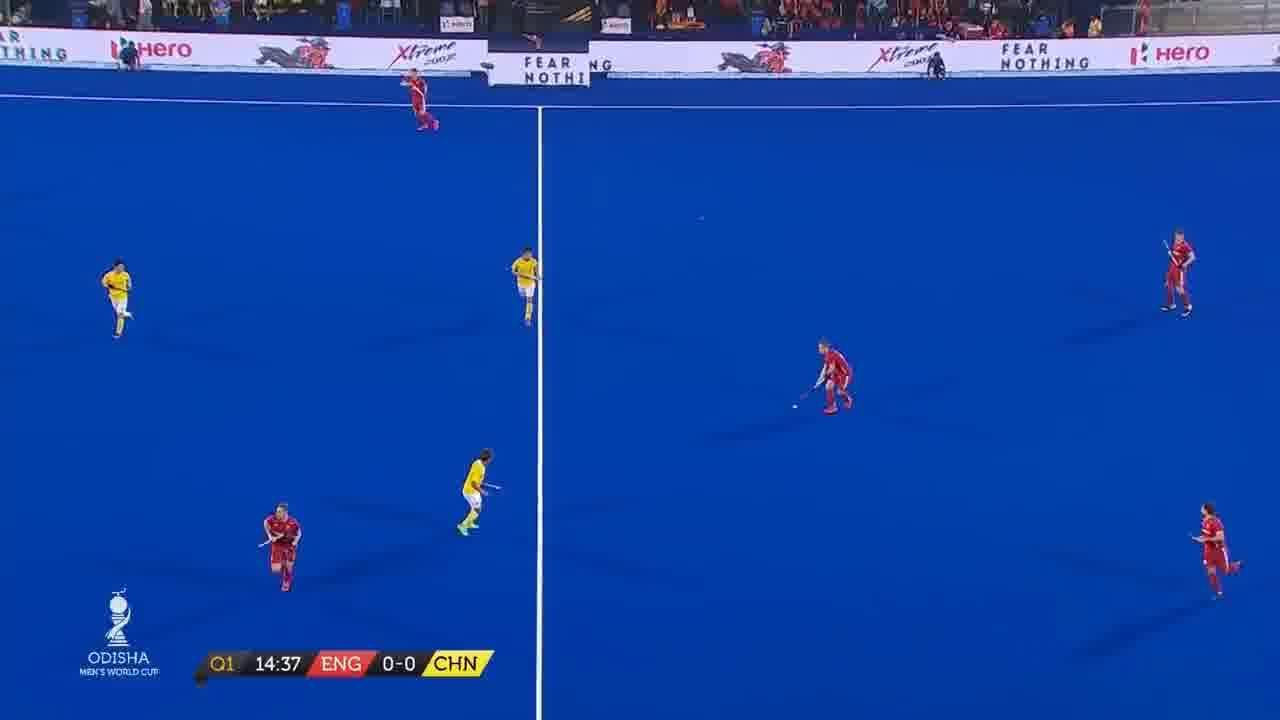ball: (780, 397, 801, 420)
